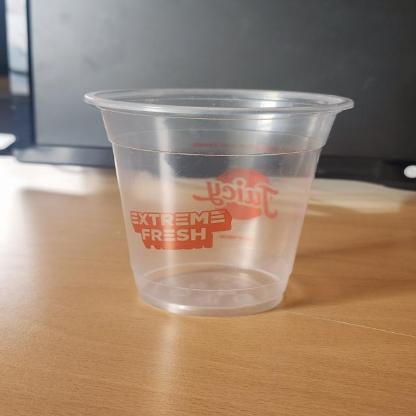Plastic Cup: (82, 89, 358, 317)
